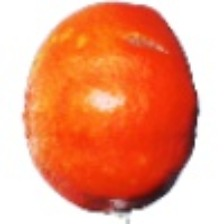tangerine: (0, 36, 201, 200)
